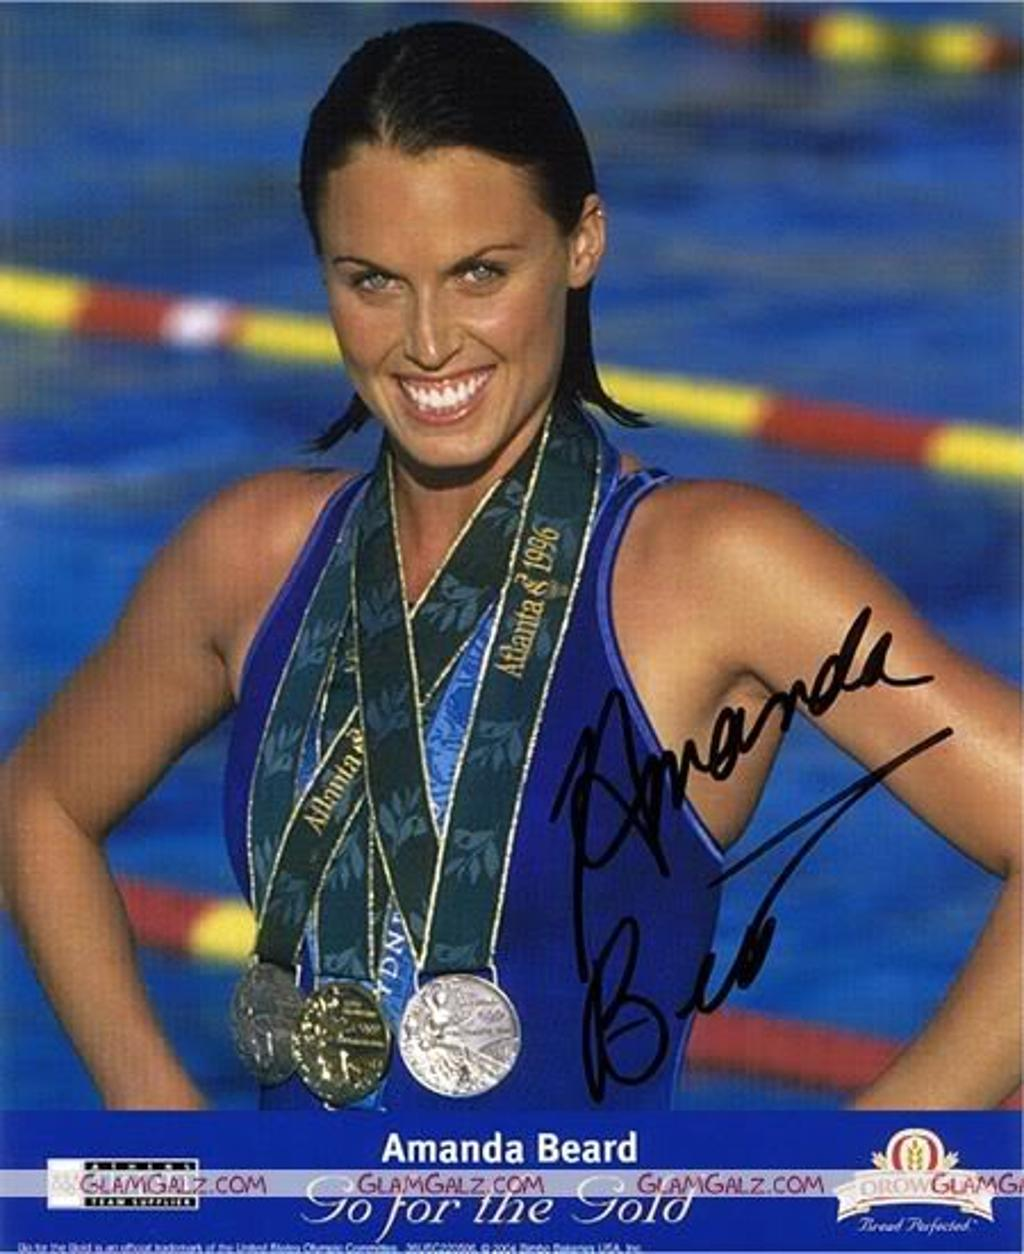face: (331, 179, 551, 466)
